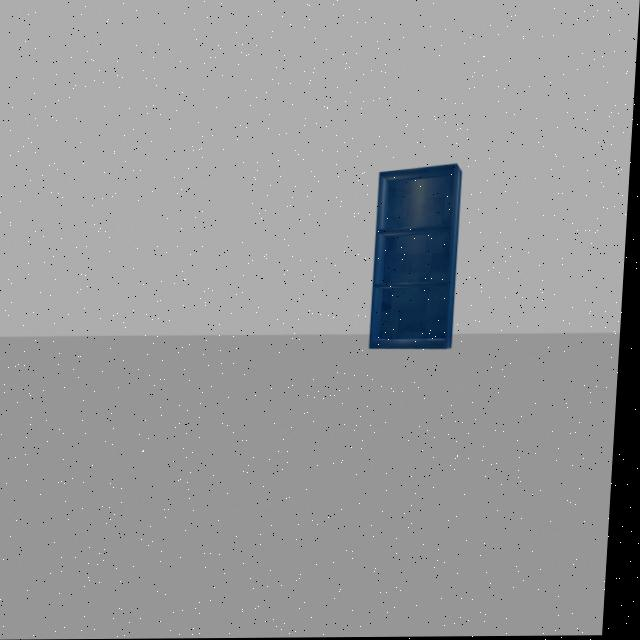shelf: (353, 155, 469, 350)
